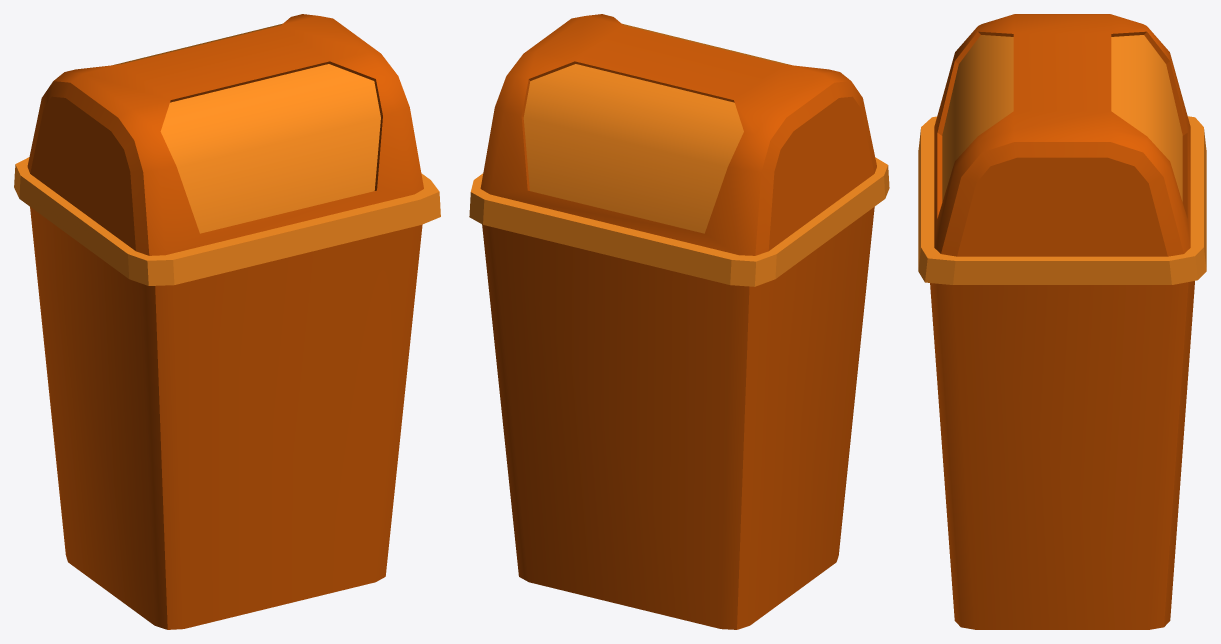
File: Bin.fbx
3 views of the same model, side by side, from view 1: azimuth 30°, elevation 25°; view 2: azimuth 150°, elevation 25°; view 3: azimuth 270°, elevation 25° (orthographic).
Visible parts, largest first — view 1: Bin; view 2: Bin; view 3: Bin.
Part boxes in pixels (x1,y1,x2,y2): Bin: (14,14,440,629); Bin: (469,14,889,629); Bin: (918,14,1206,629).
Bounding box in the file's own units: 653 × 1037 × 540.
